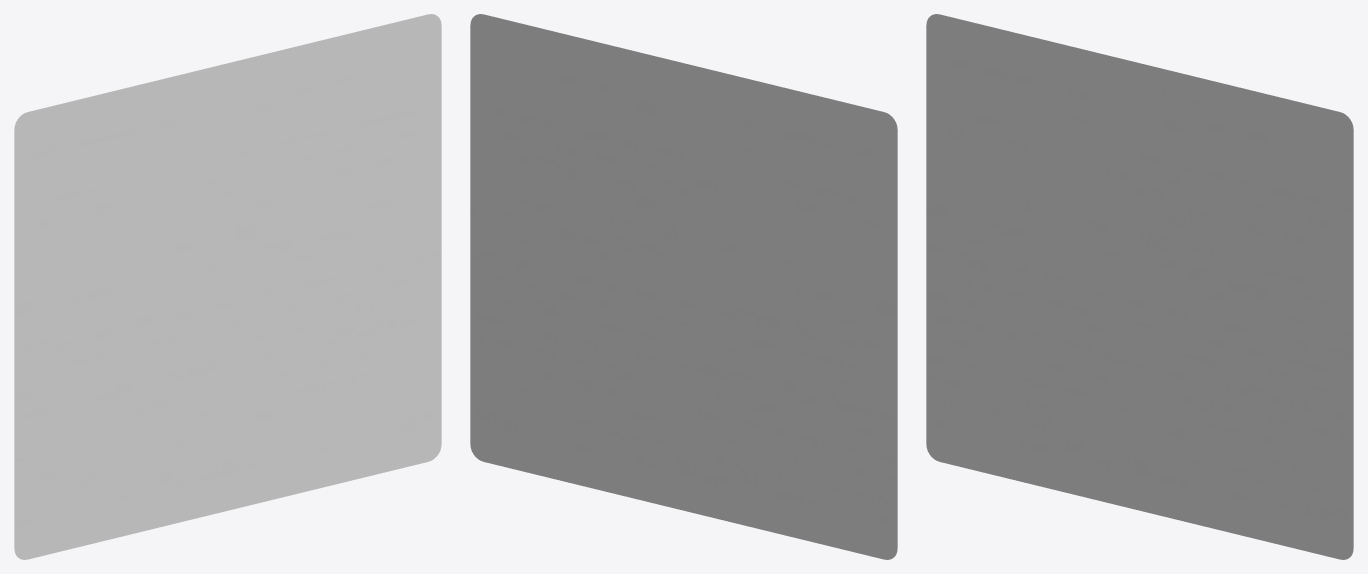
Rendered from CardHighlightSmallInner.fbx.
3 renders of one model, left to right at view 1: azimuth 30°, elevation 25°; view 2: azimuth 150°, elevation 25°; view 3: azimuth 330°, elevation 25°, orthographic.
Visible parts, largest first — view 1: CardHighlightSmallInner; view 2: CardHighlightSmallInner; view 3: CardHighlightSmallInner.
Part boxes in pixels (x1,y1,x2,y2): CardHighlightSmallInner: [14, 14, 441, 559]; CardHighlightSmallInner: [470, 14, 897, 559]; CardHighlightSmallInner: [926, 14, 1353, 559].
Size of the model in its own units: 6.4 by 6.41 by 0.
1 material, 1 textured.
